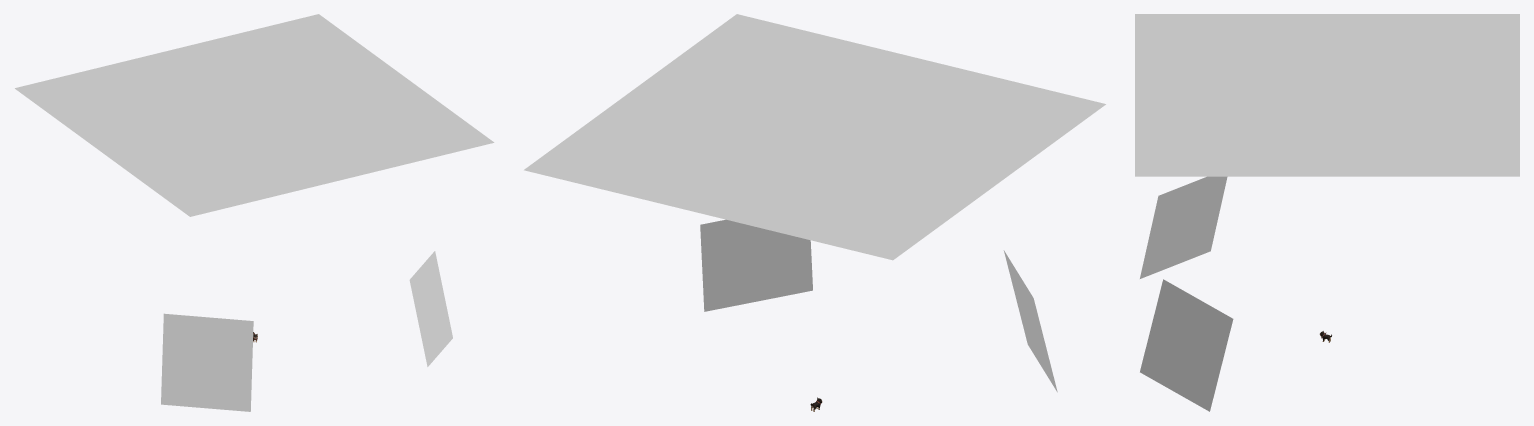
Rendered from Puppy.obj.
3 renders of one model, left to right at view 1: azimuth 30°, elevation 25°; view 2: azimuth 150°, elevation 25°; view 3: azimuth 270°, elevation 25°, orthographic. The views are drawn at different scales.
Visible parts, largest first — view 1: Softbox, Front_Of_Softbox, Front_Of_Softbox_1; view 2: Softbox, Front_Of_Softbox_1, Front_Of_Softbox; view 3: Softbox, Front_Of_Softbox_1, Front_Of_Softbox.
Part boxes in pixels (bbox=[...]): Softbox: bbox=[15, 14, 494, 216]; Front_Of_Softbox: bbox=[161, 313, 253, 411]; Front_Of_Softbox_1: bbox=[409, 251, 452, 366]; Softbox: bbox=[524, 14, 1105, 260]; Front_Of_Softbox_1: bbox=[700, 219, 812, 311]; Front_Of_Softbox: bbox=[1003, 250, 1057, 392]; Softbox: bbox=[1135, 14, 1519, 176]; Front_Of_Softbox_1: bbox=[1140, 279, 1233, 411]; Front_Of_Softbox: bbox=[1140, 176, 1227, 278].
Size of what is drawn, in the model's own units: 1500 by 1059 by 1500.
